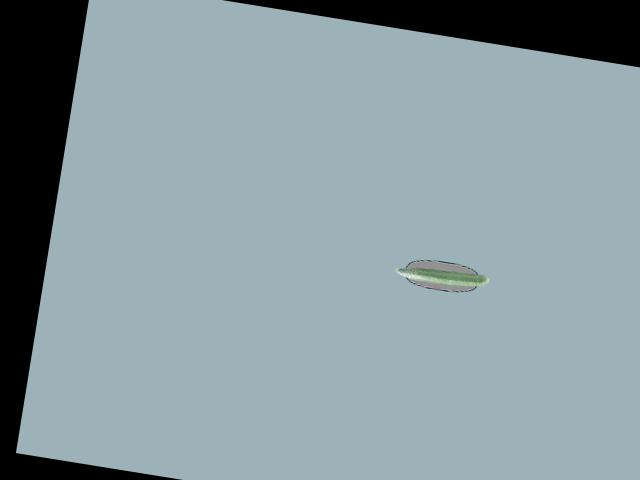cucumber: (393, 260, 490, 290)
